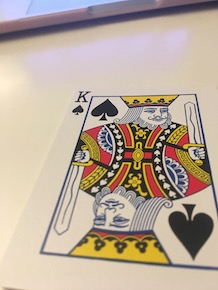KingOfSpades: (6, 81, 217, 290)
